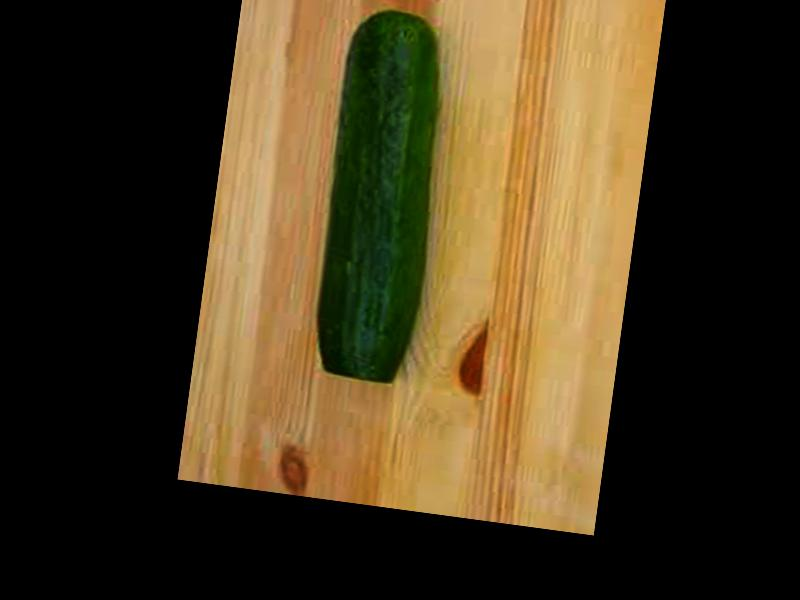Cucumber: (306, 5, 454, 383)
